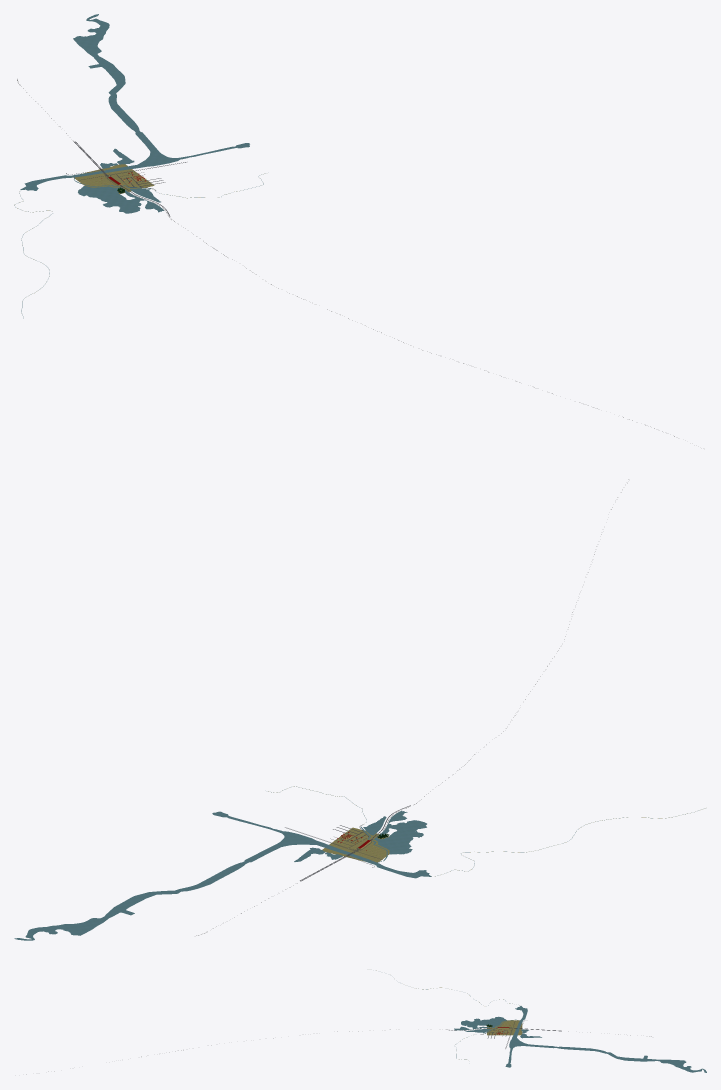
3 views of the same model, one above another, from view 1: azimuth 30°, elevation 25°; view 2: azimuth 150°, elevation 25°; view 3: azimuth 270°, elevation 25° (orthographic). The views are drawn at different scales.
Parts seen in each view (by area): view 1: Water w1019531169, Water r16676313; view 2: Water w1019531169, Water r16676313; view 3: Water w1019531169, Water r16676313.
Part boxes in pixels (bbox=[...]): Water w1019531169: bbox=[20, 14, 249, 190]; Water r16676313: bbox=[78, 186, 163, 213]; Water w1019531169: bbox=[14, 811, 431, 940]; Water r16676313: bbox=[374, 810, 426, 854]; Water w1019531169: bbox=[505, 1006, 706, 1072]; Water r16676313: bbox=[454, 1016, 506, 1030].
Size of the model in its own units: 3873 by 22.49 by 10609.
Materials: 8 (7 with a texture image).
